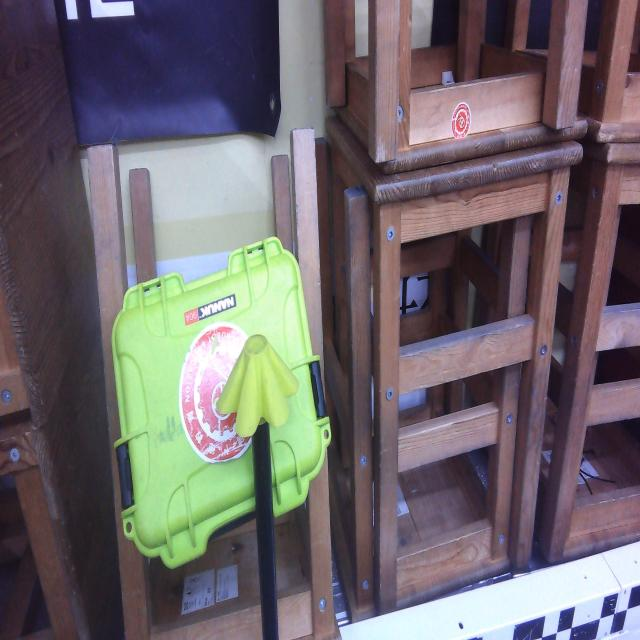Yellow-Stake-Head: (215, 334, 298, 437)
